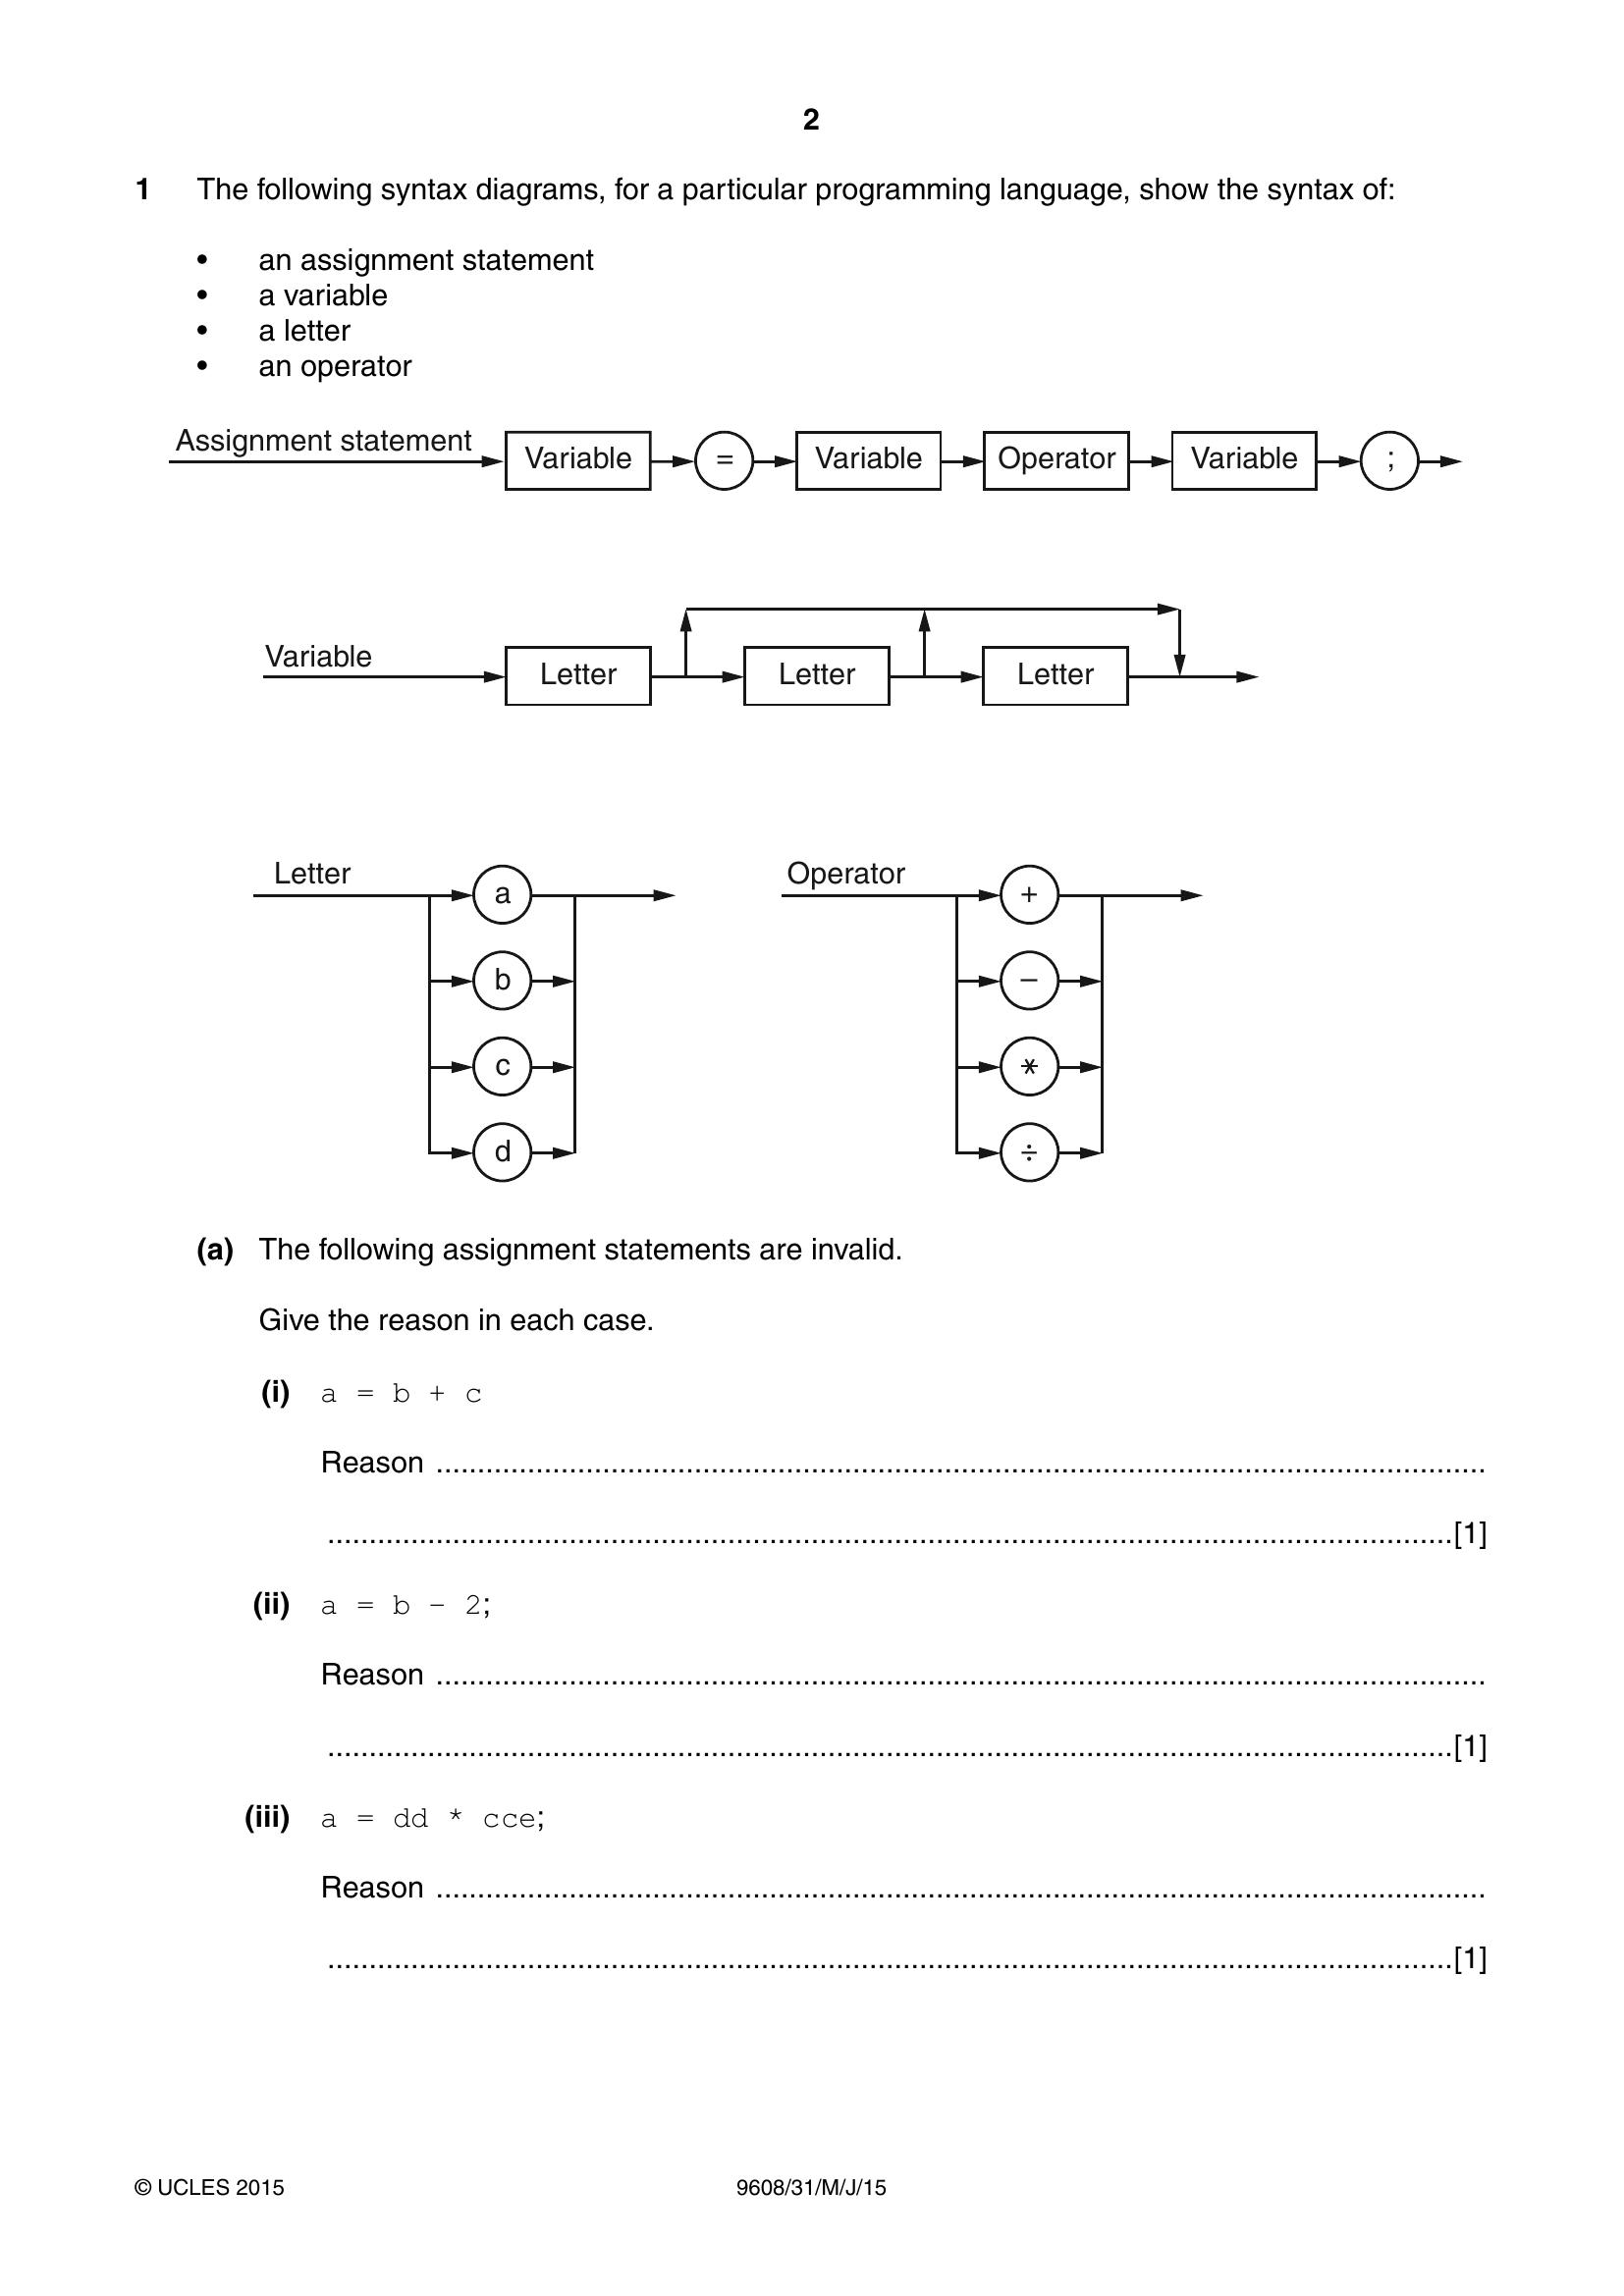question: (7, 156, 1624, 2055)
